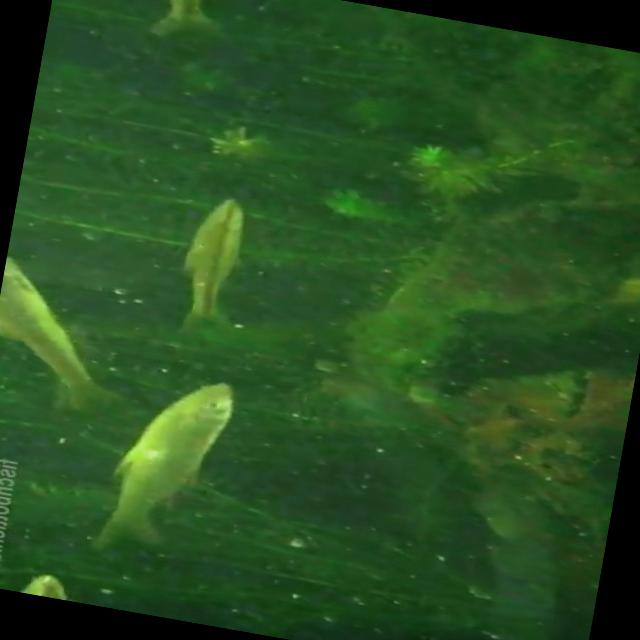Cakil Baligi: (86, 364, 238, 564), (169, 192, 255, 360)
